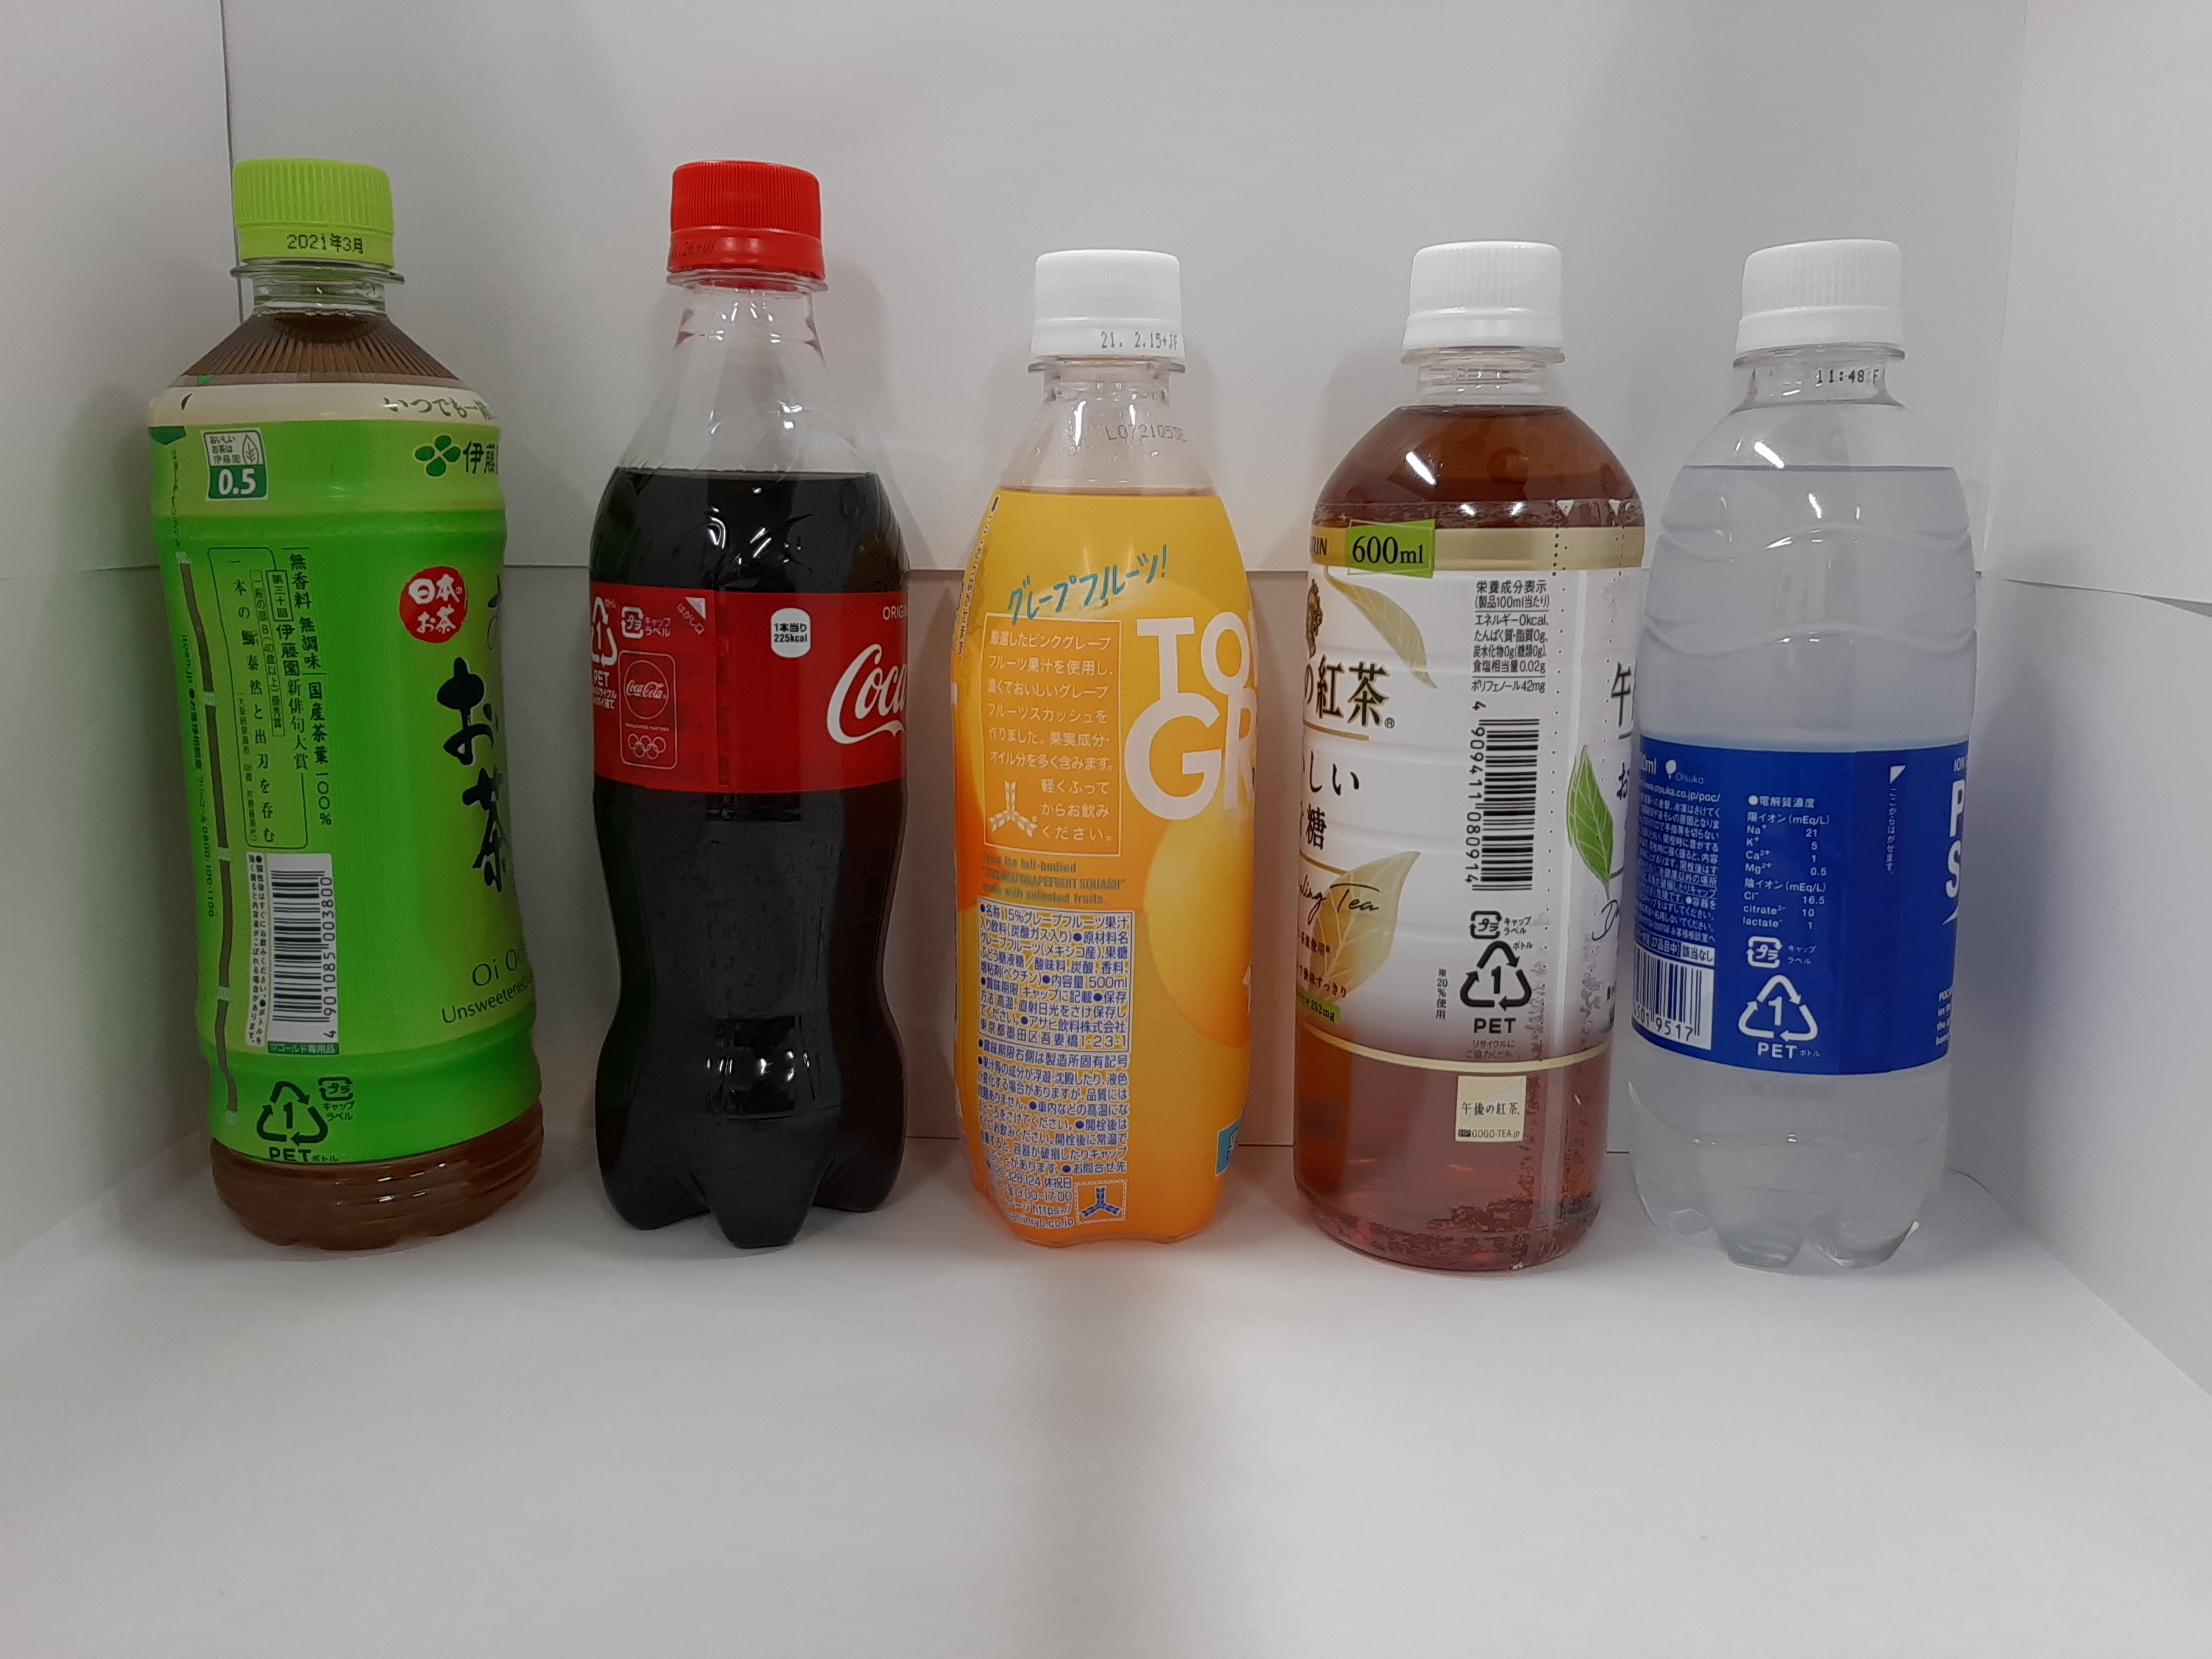おーいお茶: (105, 134, 566, 1276)
グレープフルーツスカッシュ: (918, 225, 1285, 1274)
コーラ: (550, 145, 941, 1276)
ポカリスエット: (1625, 216, 2015, 1286)
午後の紅茶: (1271, 223, 1656, 1293)
